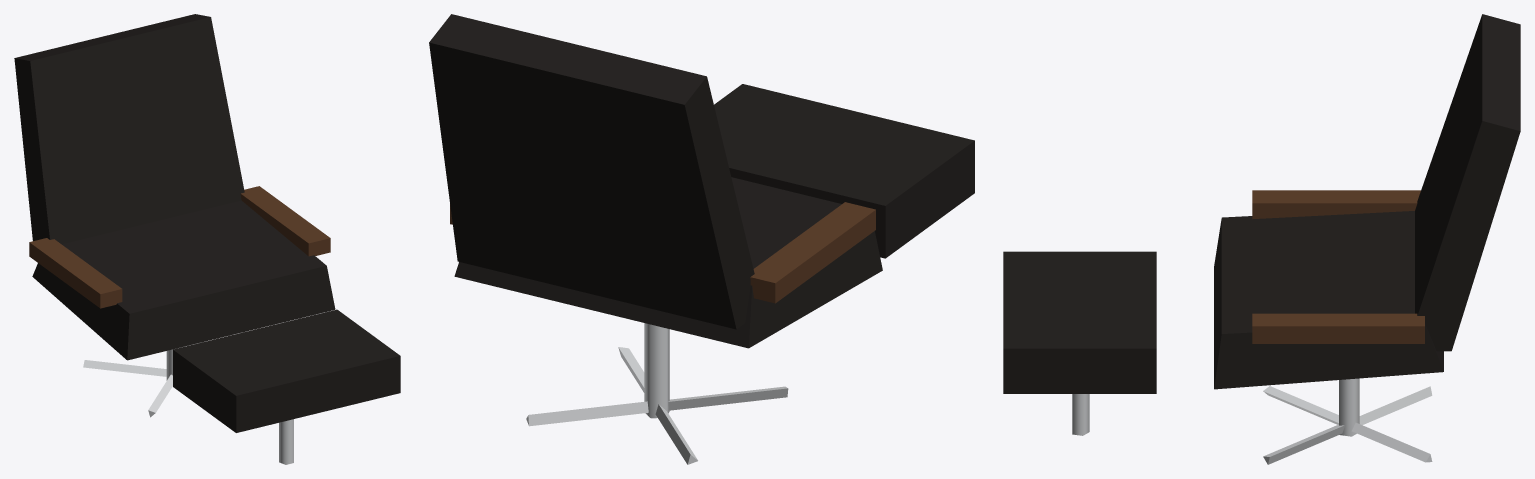
The model's file is lounge_chair.glb.
3 views of the same model, side by side, from view 1: azimuth 30°, elevation 25°; view 2: azimuth 150°, elevation 25°; view 3: azimuth 270°, elevation 25° (orthographic). The views are drawn at different scales.
Visible parts, largest first — view 1: lounge_chair; view 2: lounge_chair; view 3: lounge_chair.
Part boxes in pixels (<box>): lounge_chair: <box>14,14,400,464</box>; lounge_chair: <box>429,14,974,464</box>; lounge_chair: <box>1003,14,1520,464</box>.
Bounding box in the file's own units: 0.84 × 1.05 × 1.35.
Materials: 1 (1 with a texture image).
